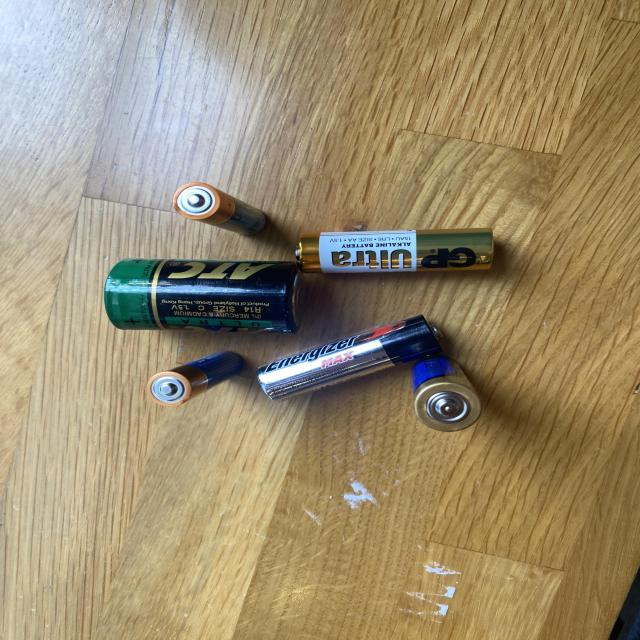AA: (255, 313, 443, 401), (294, 227, 494, 274), (394, 354, 502, 438)
AAA: (135, 343, 254, 422), (157, 172, 277, 250)
